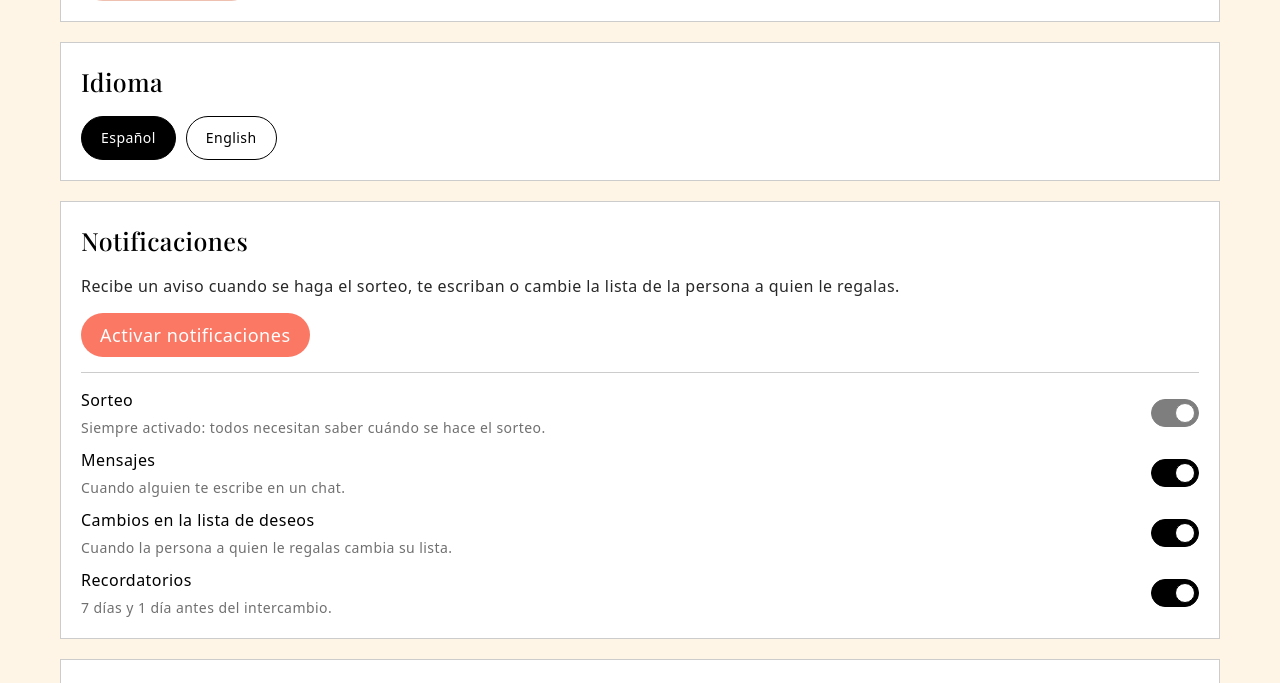
Test: Profile › Notifications › a denied answer shows how to unblock, and nothing is subscribed
(page scrolled)
Click the button "Activar notificaciones".
click(195, 335)  # box [81,313,310,357]
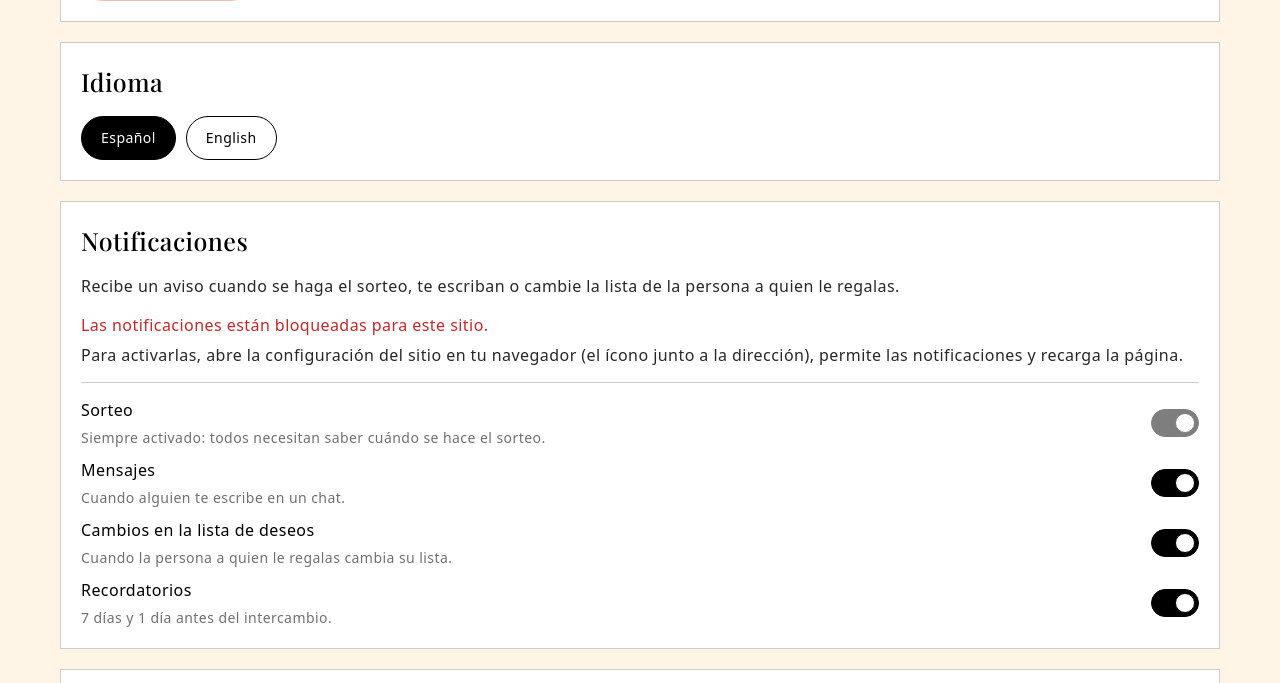
Expected: the text "abre la configuración del sitio" is shown, [81,344,1183,366]
Expected: the button "Activar notificaciones" is gone
